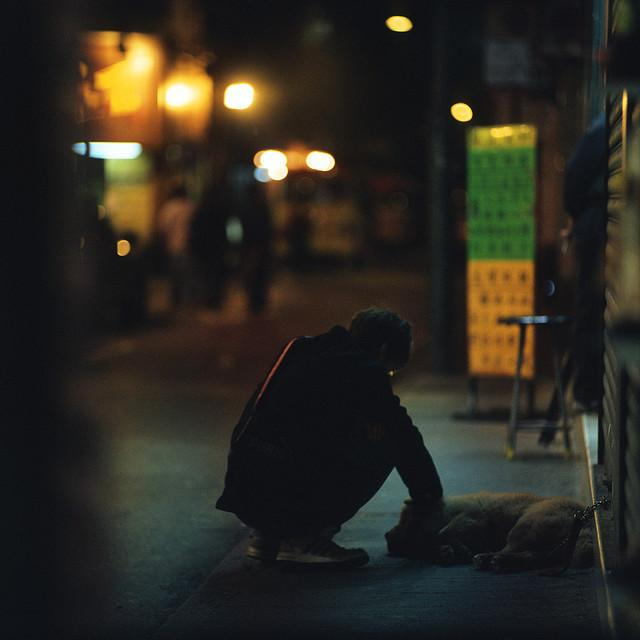dog: (393, 480, 635, 588)
